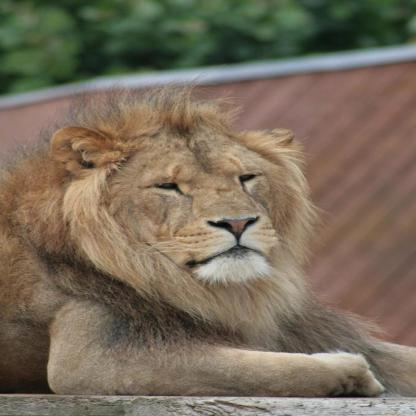lion: (42, 92, 304, 303)
